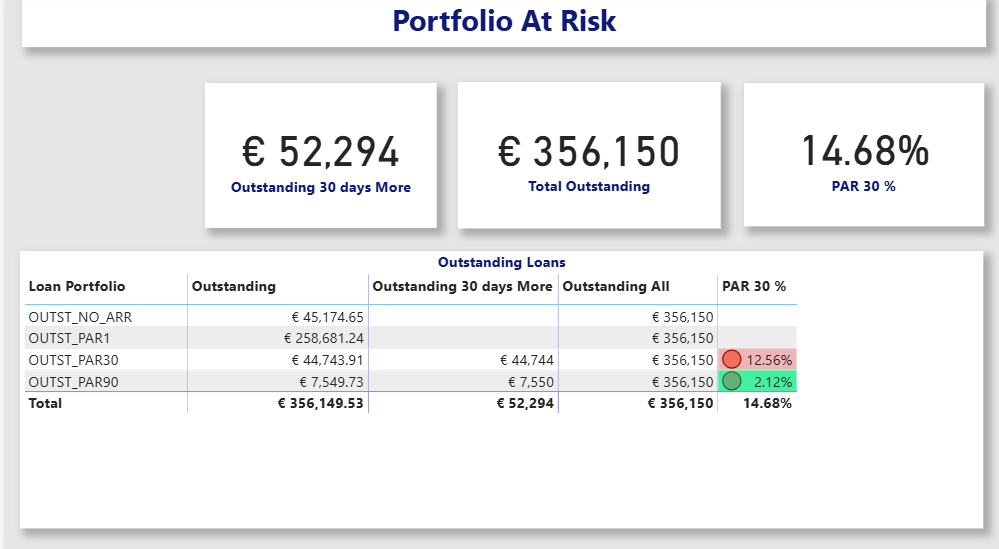

Layout of this report page (visuals, bound fields, positions):
{"tool":"powerbi","page":{"name":"Portfolio at Risk","canvas":[1280,720],"ordinal":3},"visuals":[{"type":"card","fields":{"Values":["FactLoan.PAR 30 %"]},"box":[951.9,112.1,309.7,184.8],"z":0},{"type":"card","fields":{"Values":["DimDate.Outstanding 30 days More"]},"box":[257.4,112.1,299.5,187.3],"z":1000},{"type":"card","fields":{"Values":["FactLoan.Outstanding All"]},"box":[583.6,110.9,339,188.6],"z":2000},{"type":"textbox","box":[20,0,1244,66],"z":3000},{"type":"tableEx","title":"Outstanding Loans","fields":{"Values":["FactLoan.loan_substatus_key","Sum(FactLoan.principal_amount_outstanding_eur)","DimDate.Outstanding 30 days More","FactLoan.Outstanding All","FactLoan.PAR 30 %"]},"box":[17.7,329.5,1243.2,358.1],"z":4000}]}

Visuals, with their boxes in screenshot pixels (x1, y1, x2, y2), scaled from the page's 1280x720 canvas onto the 999x549 screenshot:
card - FactLoan.PAR 30 %: 743/85/985/226
card - DimDate.Outstanding 30 days More: 201/85/435/228
card - FactLoan.Outstanding All: 455/85/720/228
textbox: 16/0/987/50
"Outstanding Loans" tableEx: 14/251/984/524
